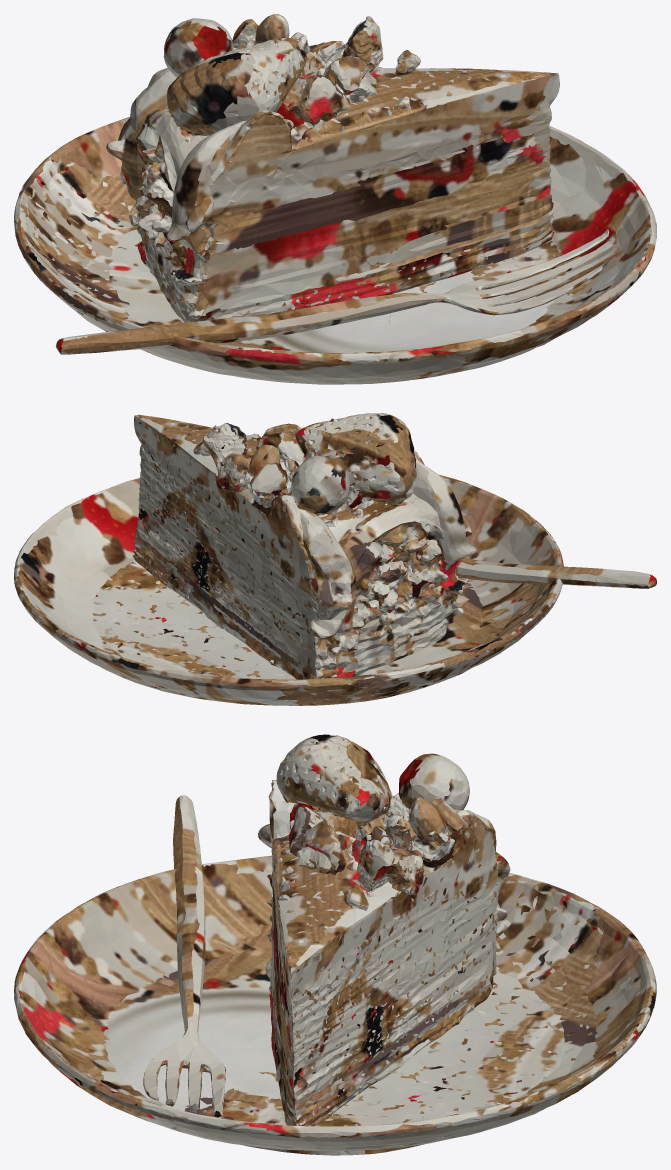
The model's file is tort.glb.
3 renders of one model, top to bottom at view 1: azimuth 30°, elevation 25°; view 2: azimuth 150°, elevation 25°; view 3: azimuth 270°, elevation 25°, orthographic. The views are drawn at different scales.
Visible parts, largest first — view 1: world; view 2: world; view 3: world.
Part boxes in pixels (left/top/right/bottom): world: left=14, top=14, right=656, bottom=384; world: left=14, top=413, right=656, bottom=705; world: left=14, top=734, right=656, bottom=1155.
Bounding box in the file's own units: 0.25 × 0.1084 × 0.2196.
1 material, 1 textured.
